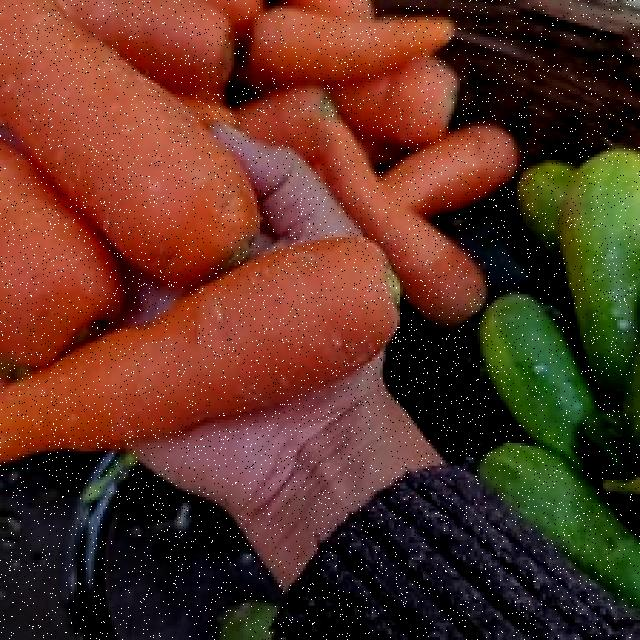Carrot: (0, 235, 399, 503), (0, 0, 263, 284), (252, 2, 460, 117)
